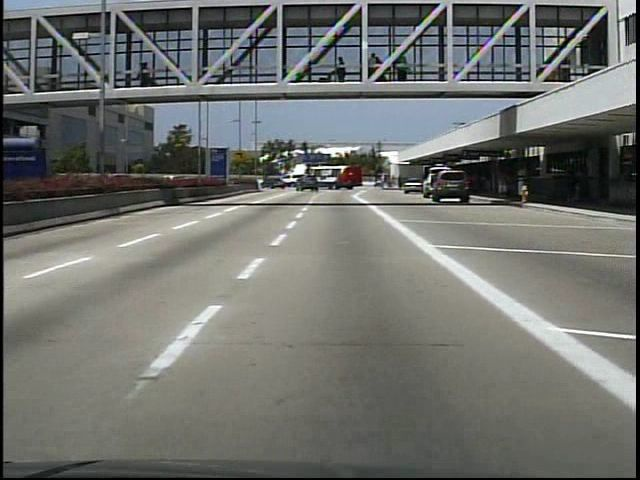person: (138, 59, 159, 89), (332, 53, 352, 84), (495, 167, 513, 201)
